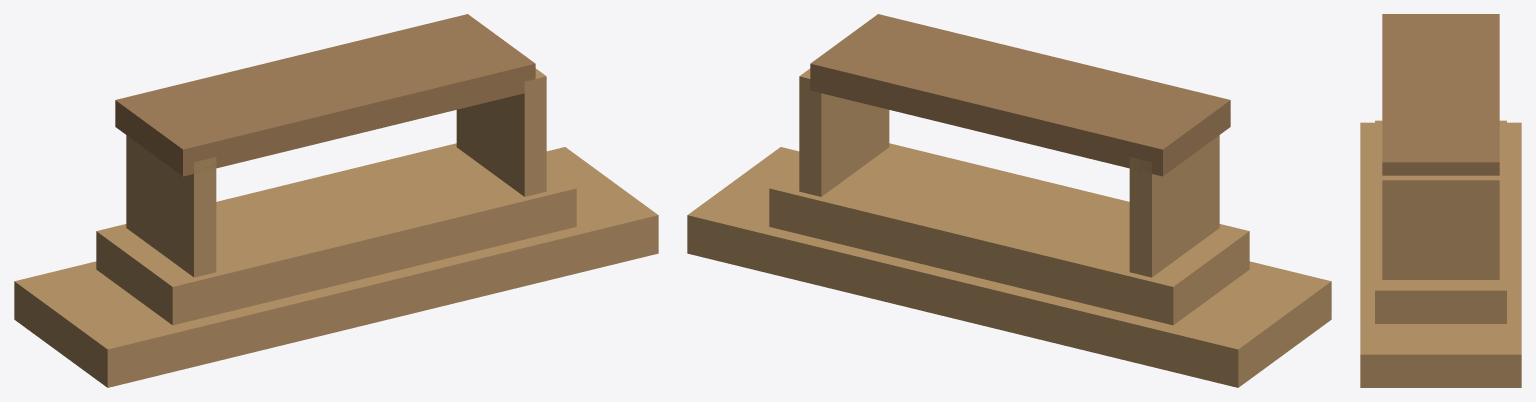
File: voxel-jinan-boat.gltf
3 renders of one model, left to right at view 1: azimuth 30°, elevation 25°; view 2: azimuth 150°, elevation 25°; view 3: azimuth 270°, elevation 25°, orthographic. The views are drawn at different scales.
Size of the model in its own units: 1.5 by 0.54 by 0.44.
